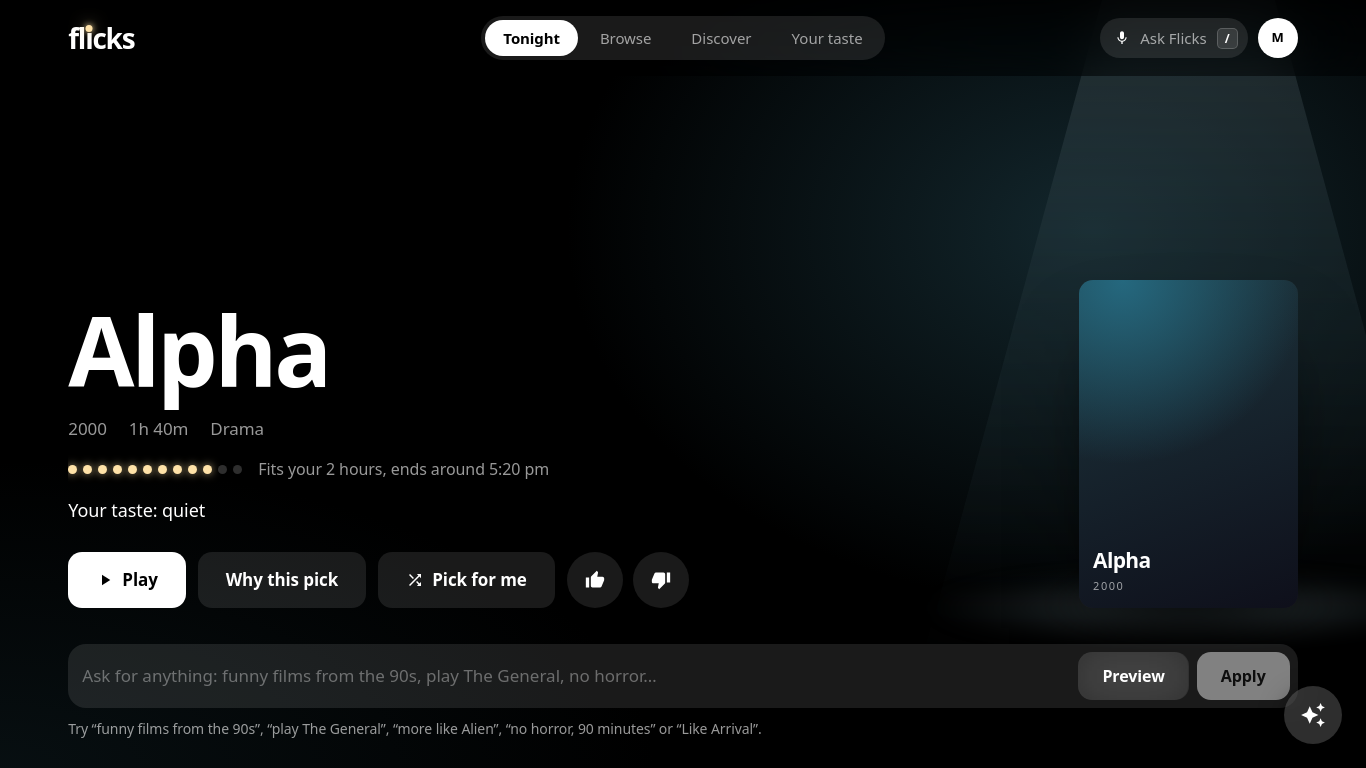
Test: the details sheet adds the local model’s explanation when one is available
expect the heading named "Alpha" is shown: met, box [68,284,329,415]
What coordinates should you click on to do the following:
click the button "Why this pick"
I would click on:
 (282, 580)
Its box is [198,552,366,608].
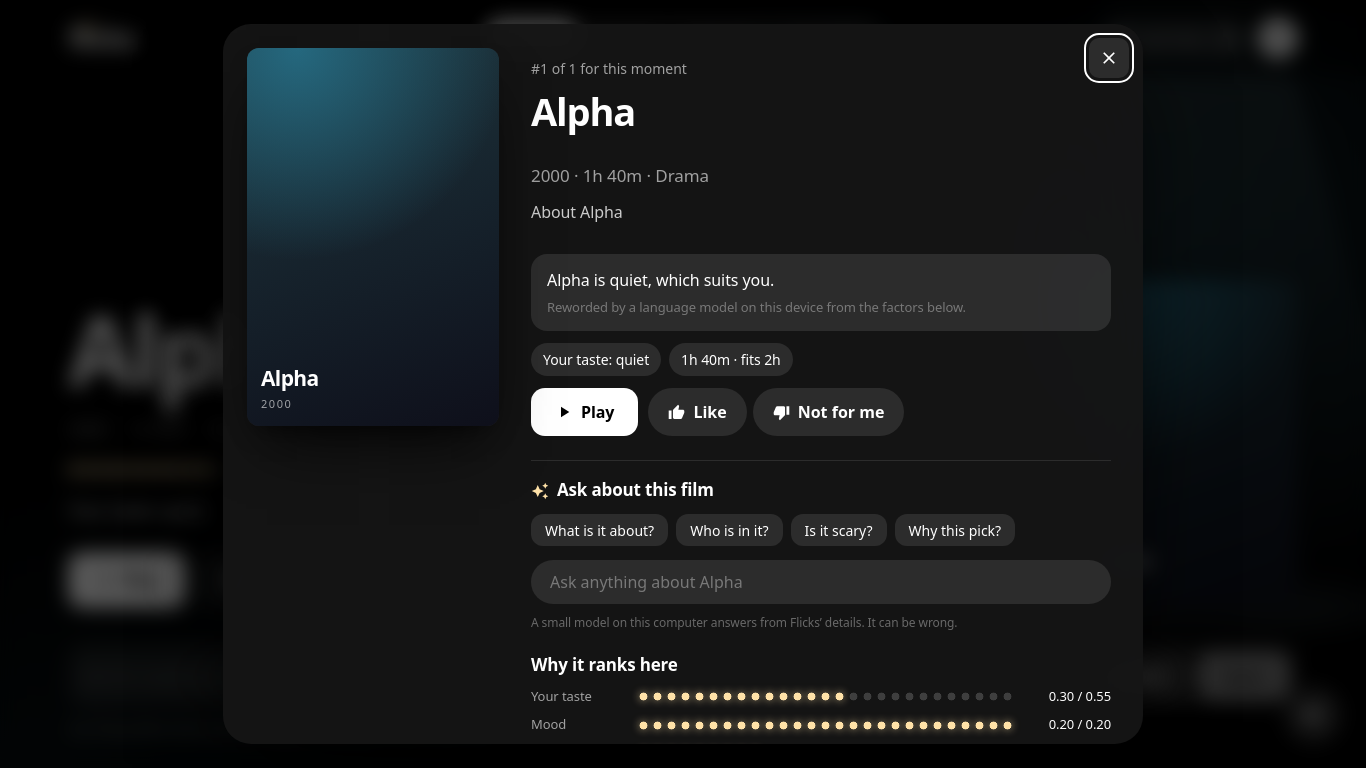
expect the text "Alpha is quiet, which suits you." is shown: met, box [547,269,774,291]
